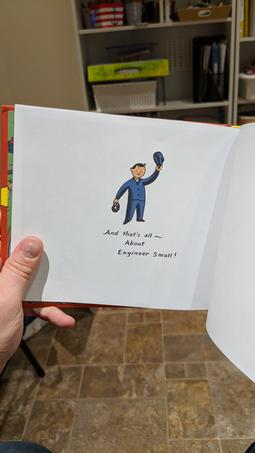text block: (96, 229, 187, 261)
